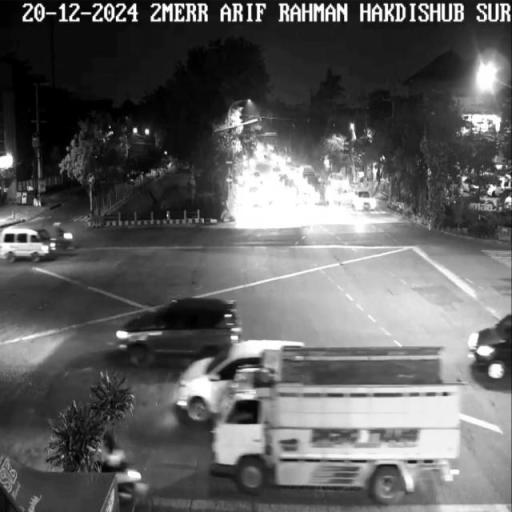car: (114, 296, 238, 361), (174, 340, 232, 418), (469, 309, 512, 384), (2, 227, 54, 262)
truck: (210, 347, 466, 500)
